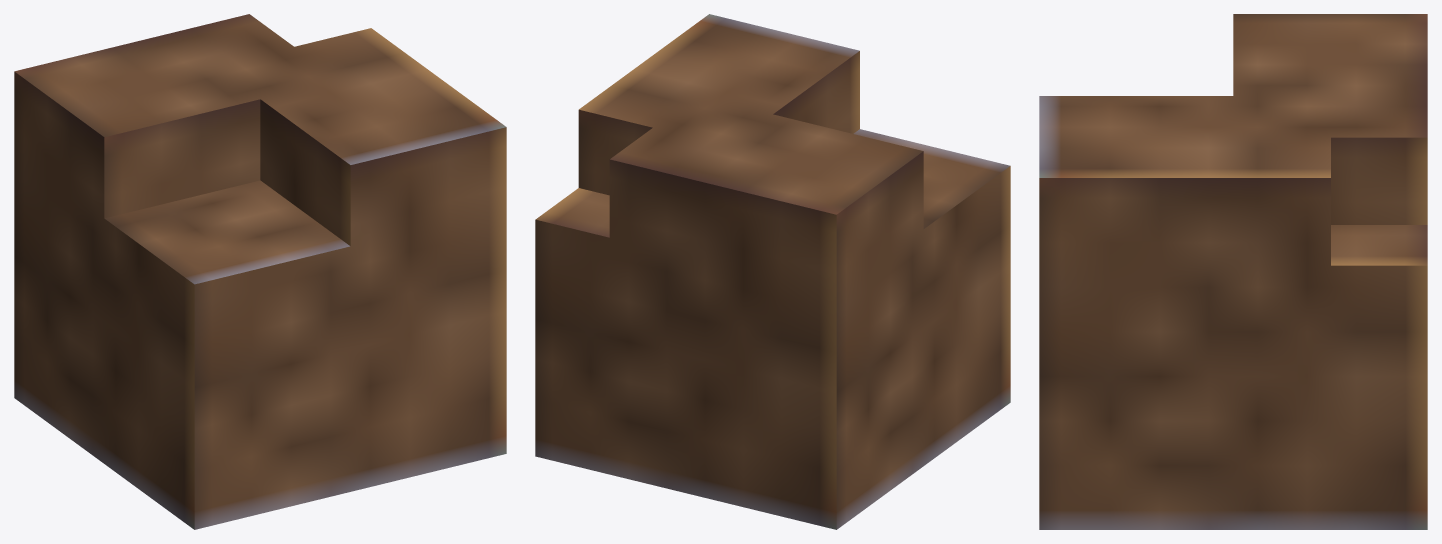
File: Dirt_Destroy_Step1.fbx
The picture shows the model from 3 angles, left to right: view 1: azimuth 30°, elevation 25°; view 2: azimuth 150°, elevation 25°; view 3: azimuth 270°, elevation 25°; orthographic projection. The views are drawn at different scales.
Parts seen in each view (by area): view 1: Dirt_Destroy_Step1; view 2: Dirt_Destroy_Step1; view 3: Dirt_Destroy_Step1.
Boxes of the visible parts, x1=… form: Dirt_Destroy_Step1: x1=14, y1=14, x2=506, y2=529; Dirt_Destroy_Step1: x1=535, y1=14, x2=1010, y2=529; Dirt_Destroy_Step1: x1=1039, y1=14, x2=1427, y2=529.
Size of the model in its own units: 25 by 25 by 25.
Materials: 1 (1 with a texture image).
